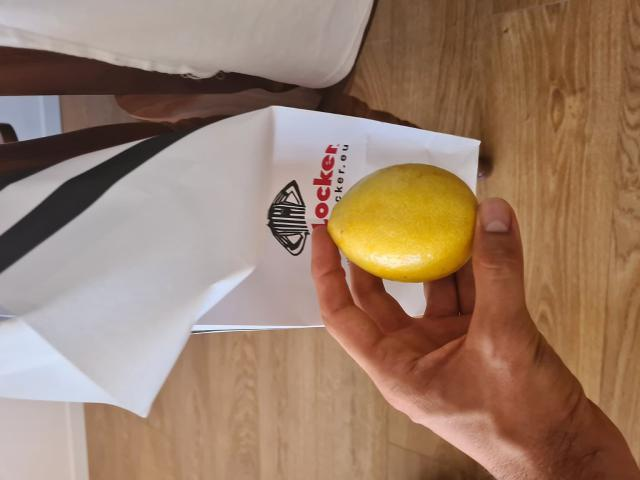lemon: (334, 158, 478, 288)
